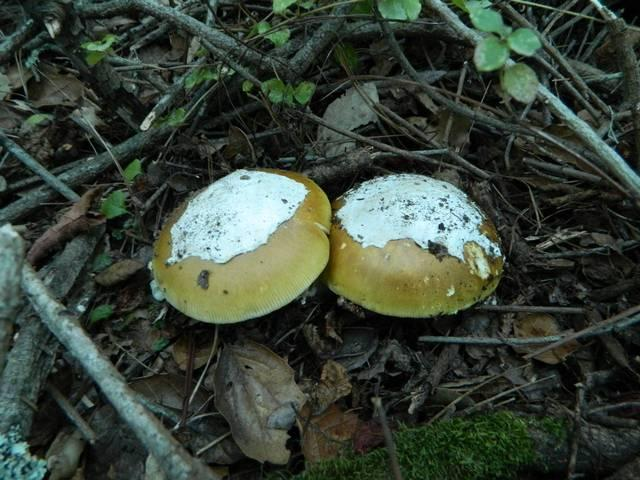edible_mushroom: (148, 166, 332, 325), (325, 171, 505, 318)
